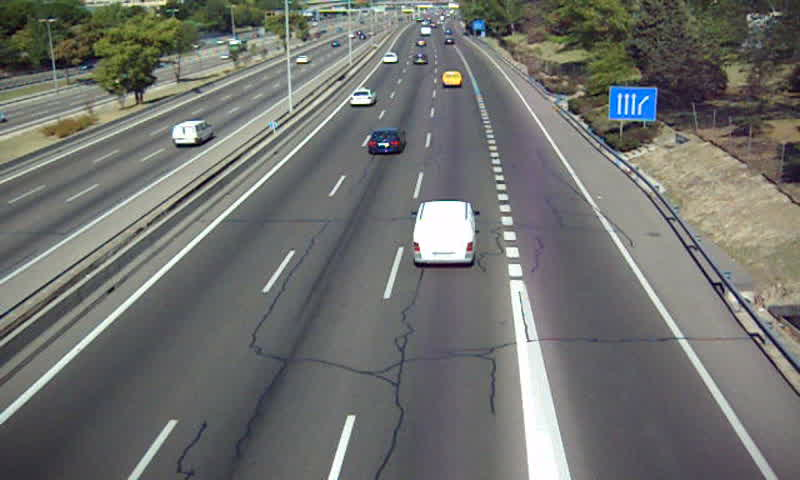car: (366, 129, 405, 155), (348, 88, 374, 106), (413, 51, 428, 67), (382, 51, 397, 63)
van: (412, 200, 477, 265), (441, 71, 461, 88)
